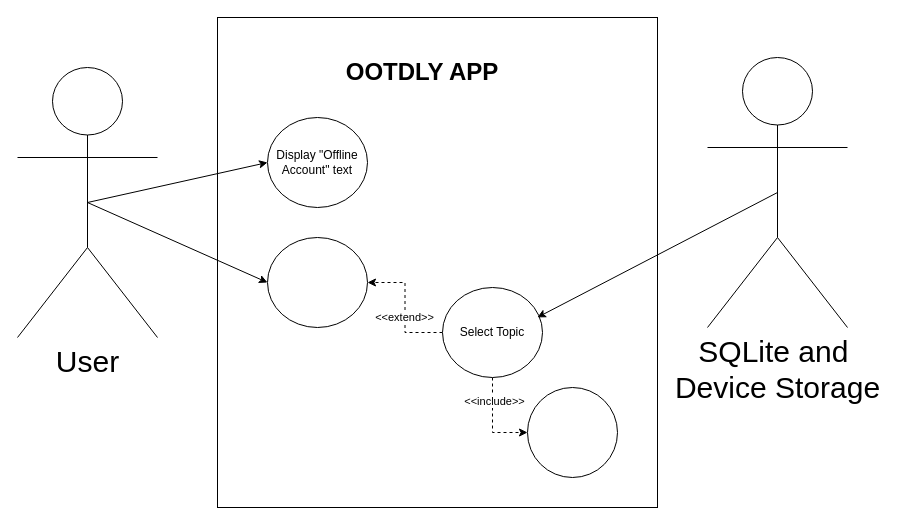
This 897x525 diagram has some shape labels left out. The centre of each missing label's shape, as x and y in pixels:
Display Topic text: point 572,432
View Tips: point 317,282
